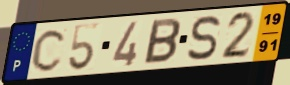2: (220, 10, 258, 59)
4: (110, 20, 140, 68)
5: (67, 20, 105, 73)
B: (141, 17, 183, 66)
C: (30, 27, 69, 74)
S: (185, 14, 222, 63)
